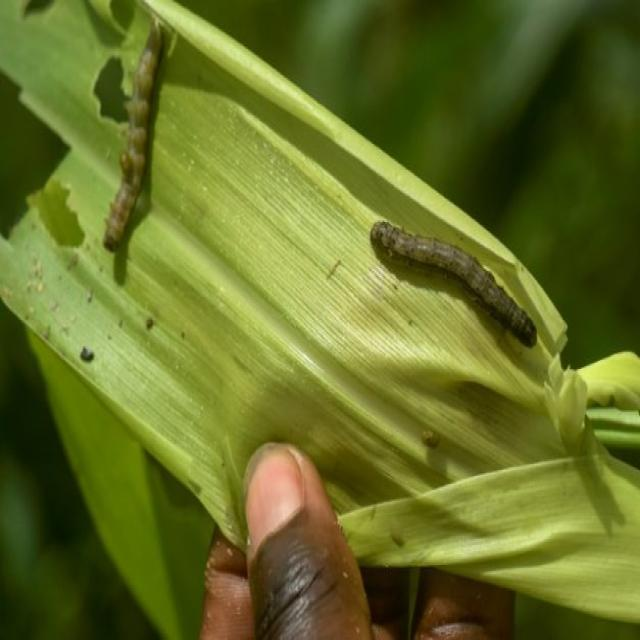worm: (369, 219, 539, 350), (102, 18, 164, 252)
